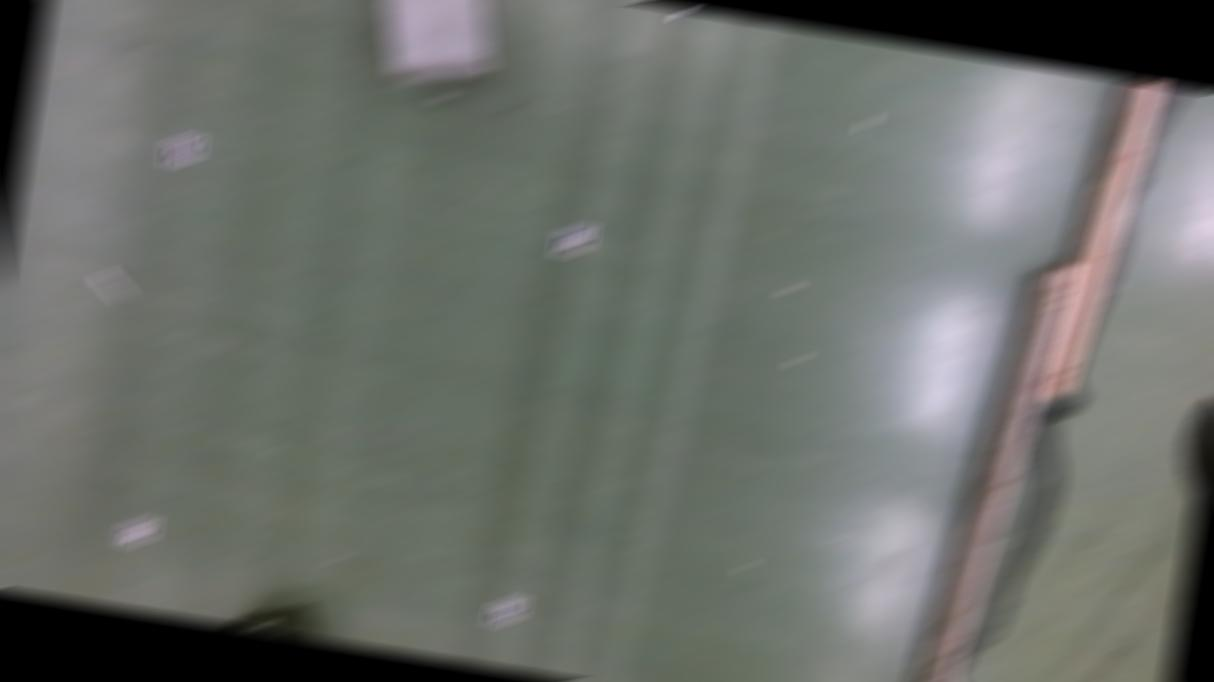probes: (92, 269, 134, 299), (672, 8, 709, 20)
rako: (352, 1, 508, 90)
